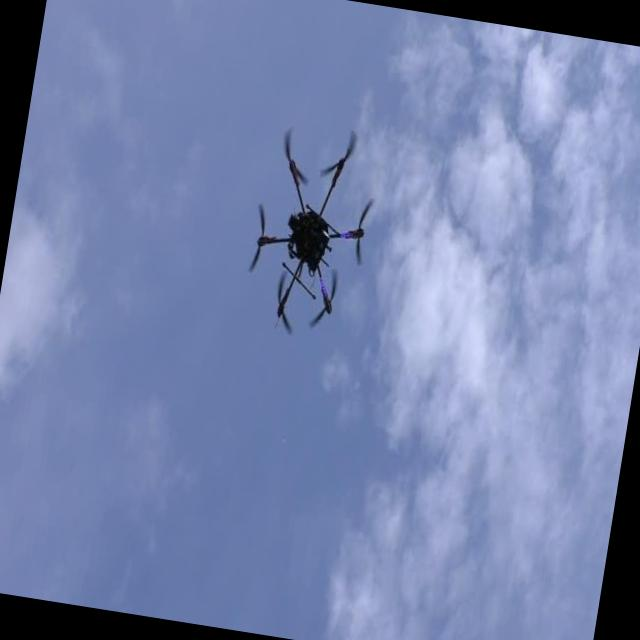drone: (238, 118, 382, 344)
